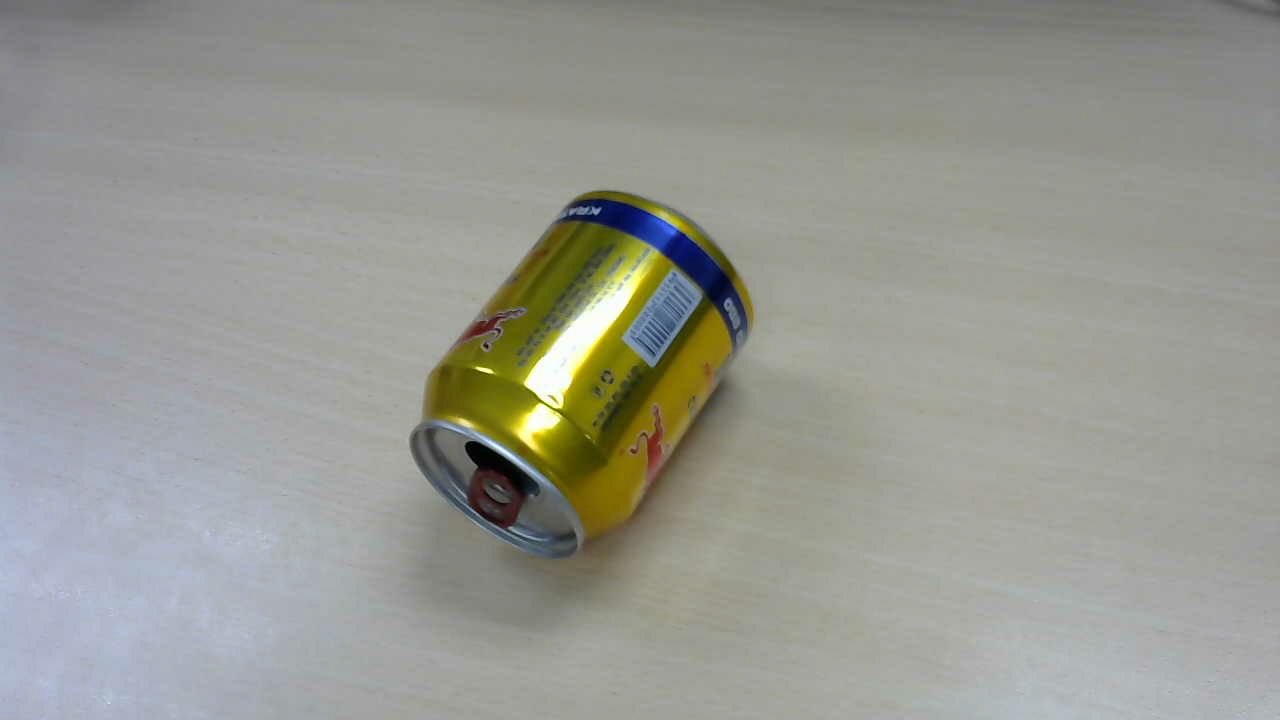Red_Bull: (412, 192, 762, 564)
